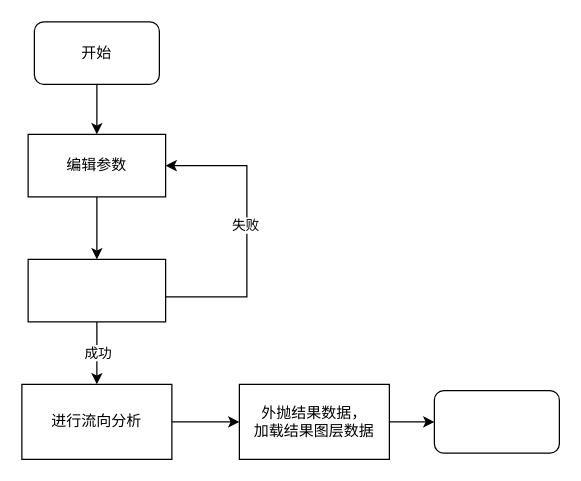
This 581x481 diagram has some shape labels left out. Each missing label, with the box of its shape:
结束: (433, 389, 559, 453)
进行叠加分析: (27, 258, 166, 322)
